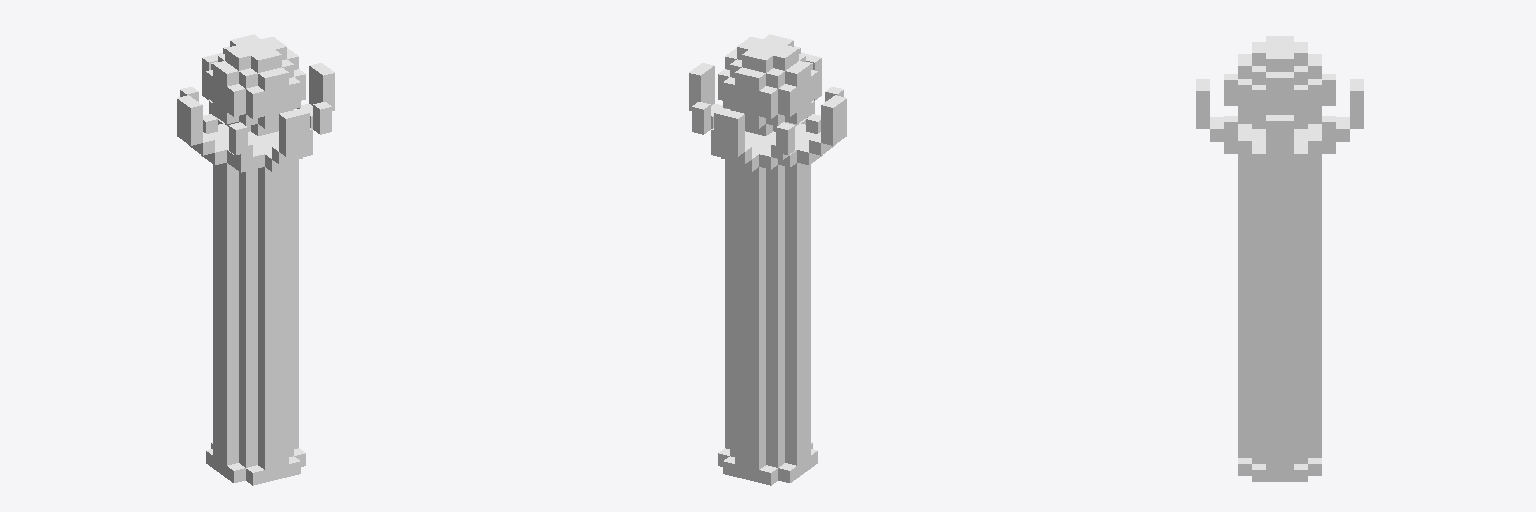
File: gauntlet_ranged.obj
The picture shows the model from 3 angles: view 1: azimuth 30°, elevation 25°; view 2: azimuth 150°, elevation 25°; view 3: azimuth 270°, elevation 25°; orthographic projection.
Parts seen in each view (by area): view 1: object 1; view 2: object 1; view 3: object 1.
Part boxes in pixels (left/top/right/bottom): object 1: left=177, top=34, right=334, bottom=485; object 1: left=689, top=34, right=846, bottom=485; object 1: left=1196, top=36, right=1363, bottom=481.
Size of the model in its own units: 1.2 by 3.3 by 1.2.